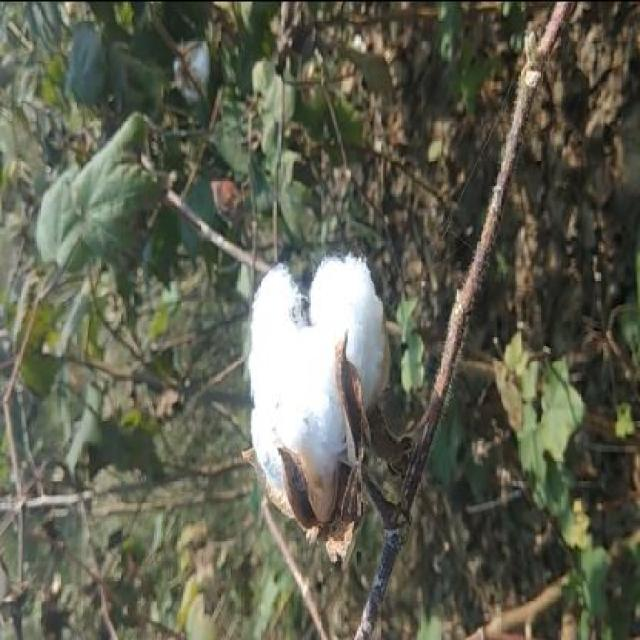cotton_ready: (234, 224, 449, 578)
